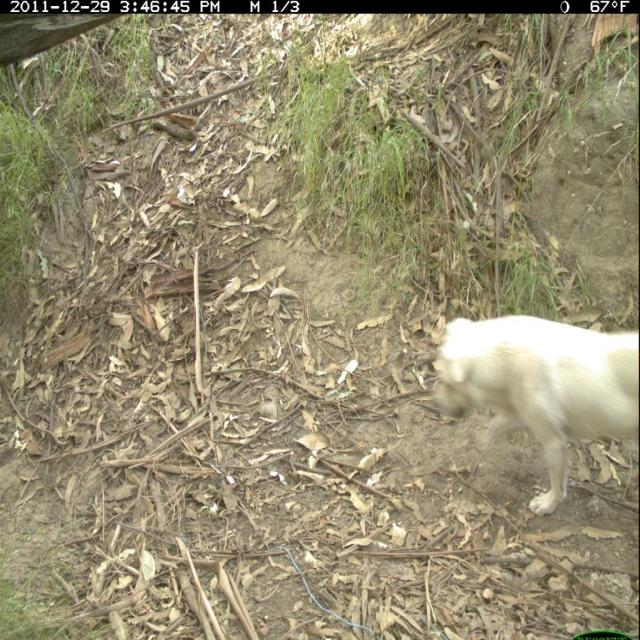dog: (430, 307, 637, 525)
